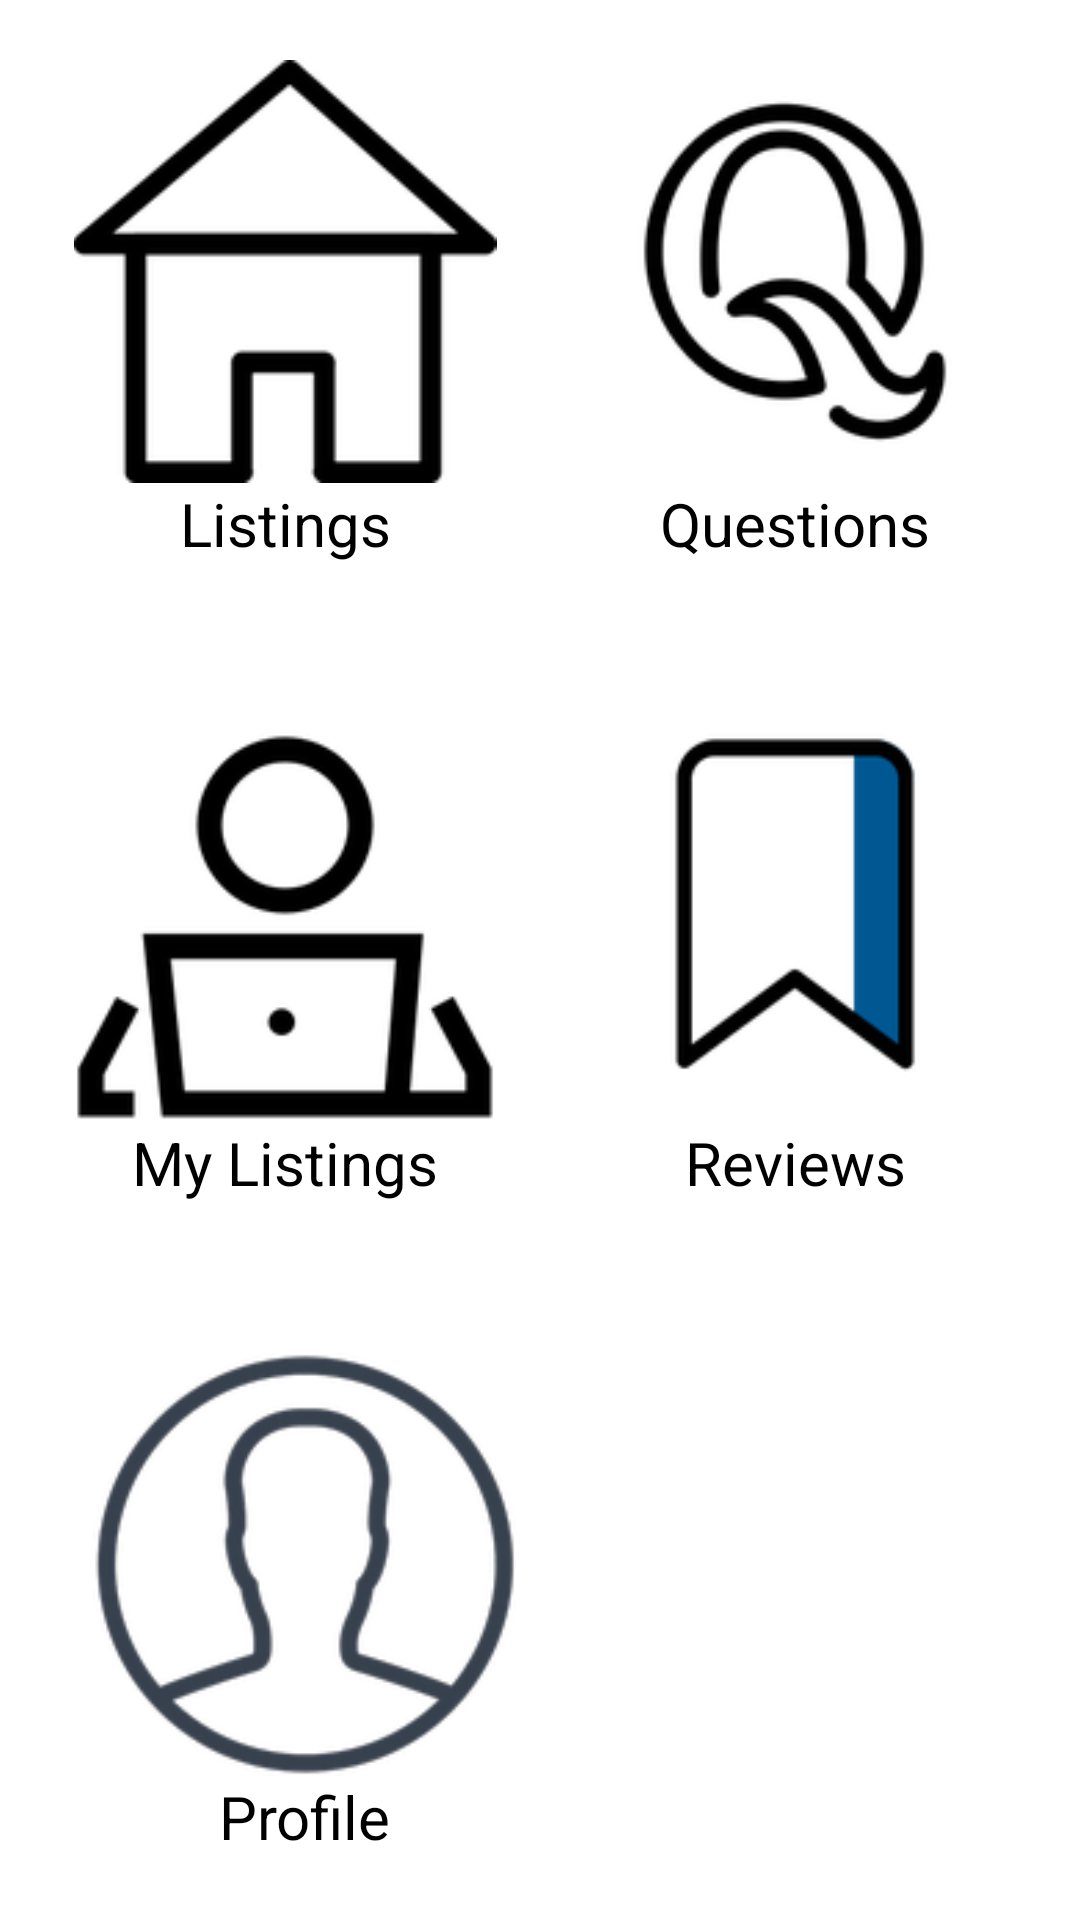

Icons on this 1080 × 1920 Android screen, each with its box as (x1, y1, x2, y2):
favorites: (675, 738, 915, 1070)
